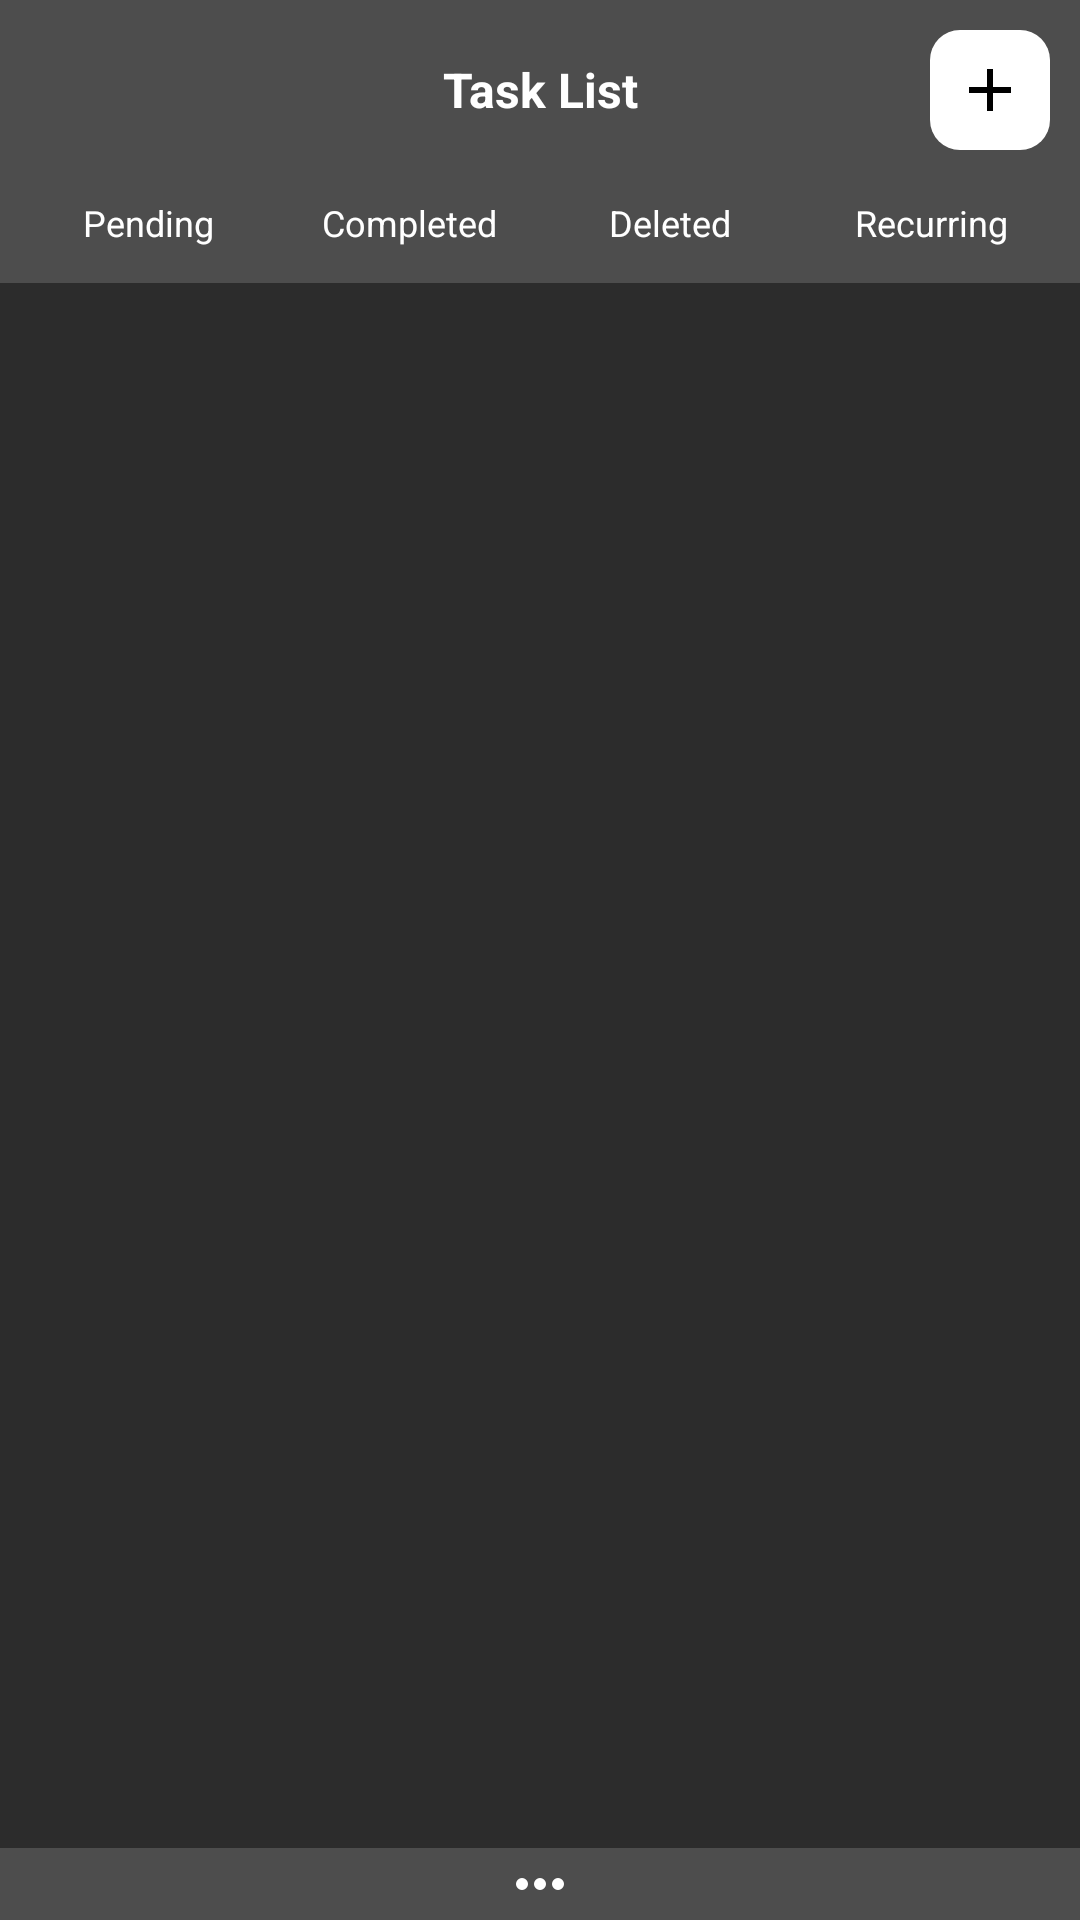

Icon click points for this 1080 × 1920 phone screenshot, format point (x, y):
add: point (990, 90)
